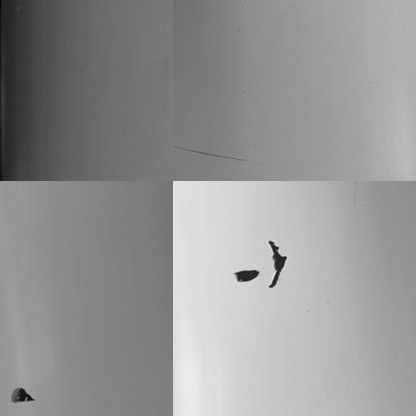kongdong: (266, 240, 291, 289), (7, 382, 36, 404), (234, 264, 258, 285)
sunshang: (167, 140, 251, 164)
